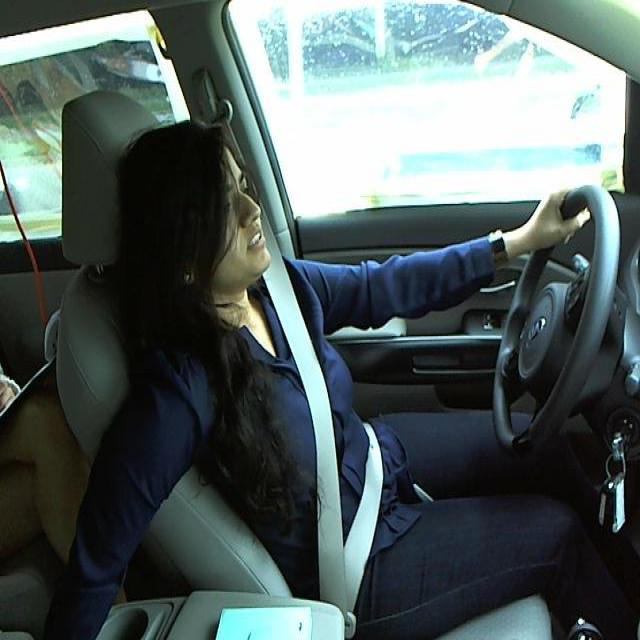seatbelt: (254, 289, 386, 600)
